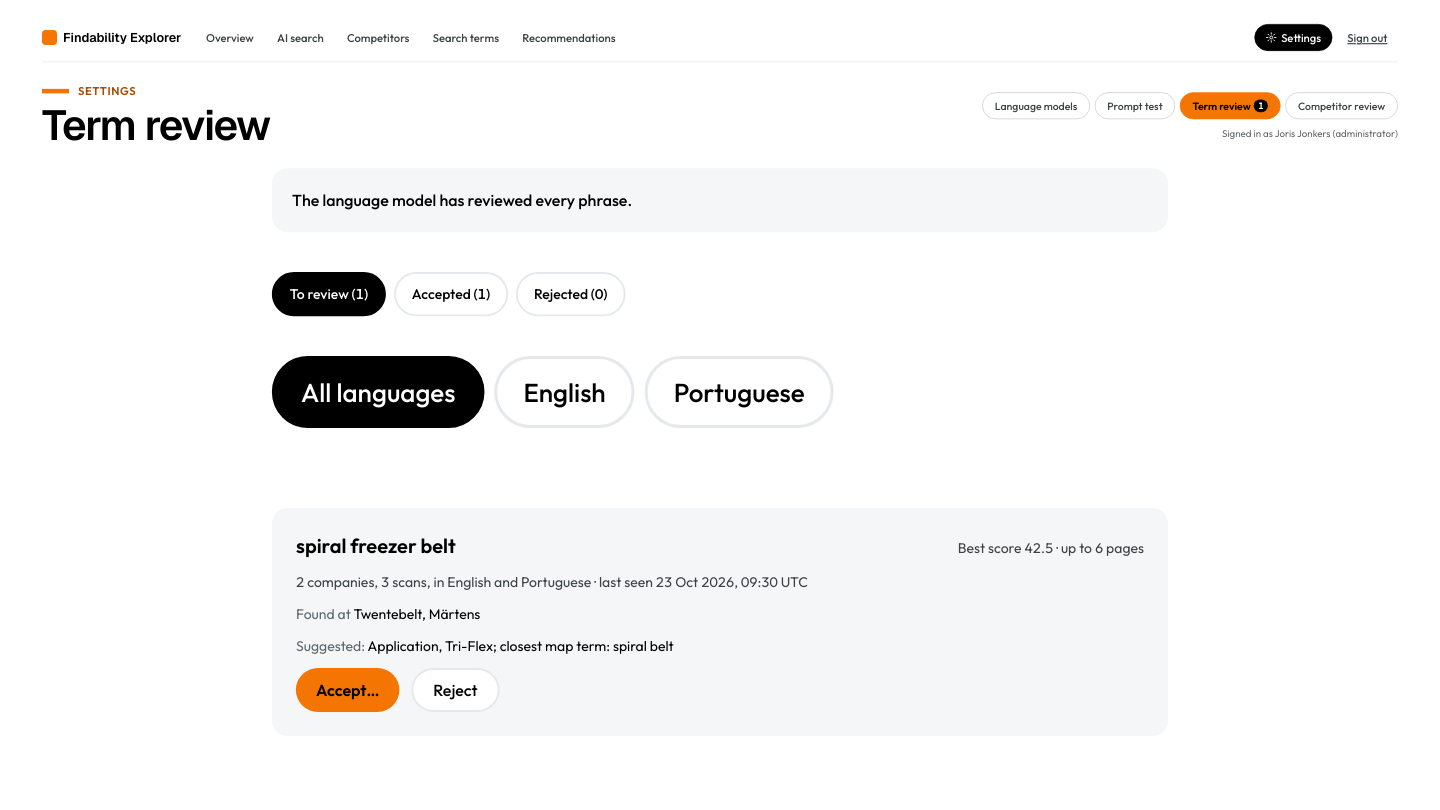
Scenario: the term review › rejects a candidate, and cancels an acceptance
This screenshot has width=1440, height=810.
(page scrolled)
Click the button "Accept…". click: click(348, 690)
box: 296,668 -> 399,712
(page scrolled)
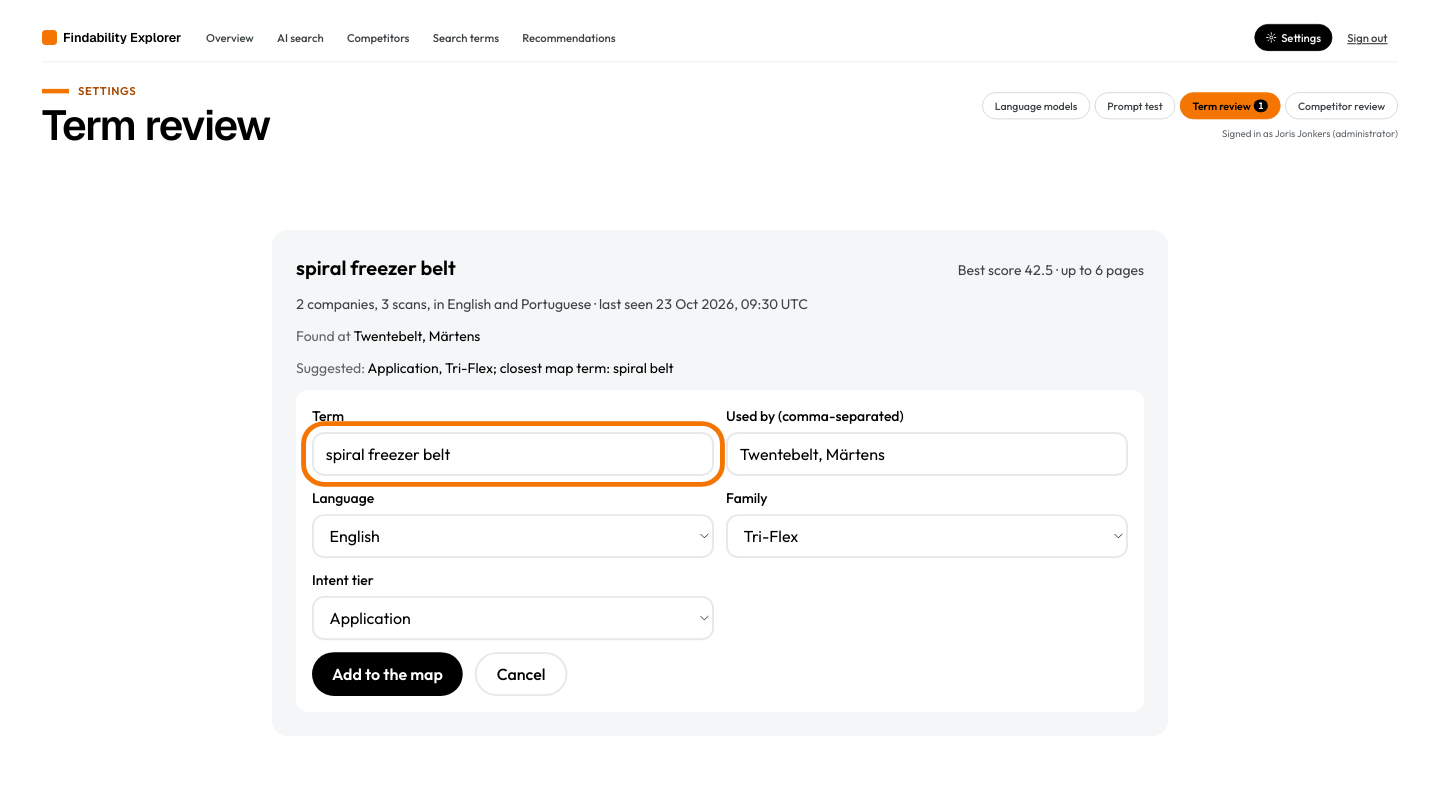
Click the button "Cancel". click: click(521, 674)
box: 475,652 -> 567,696
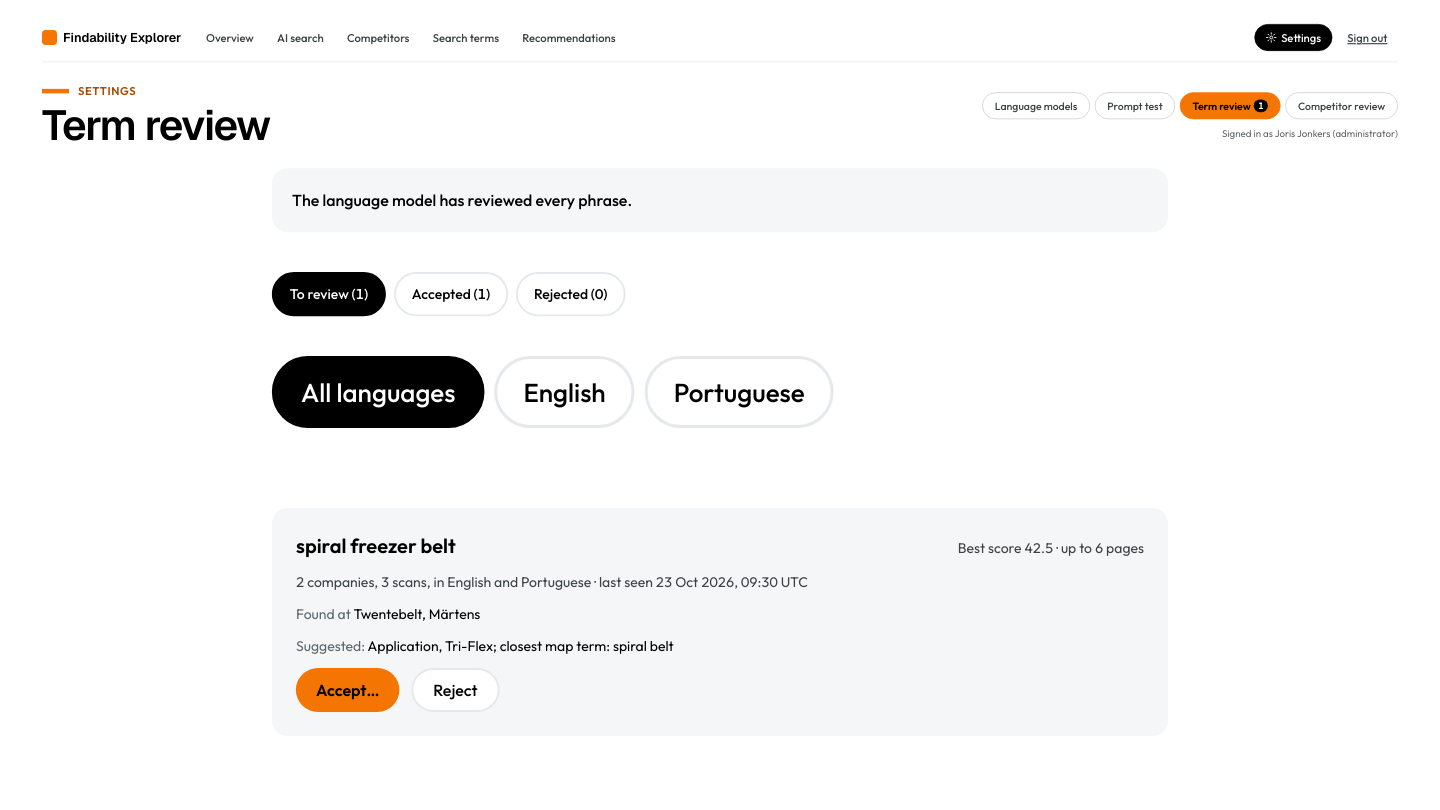
Click the button "Reject". click: click(455, 690)
box: 411,668 -> 499,712
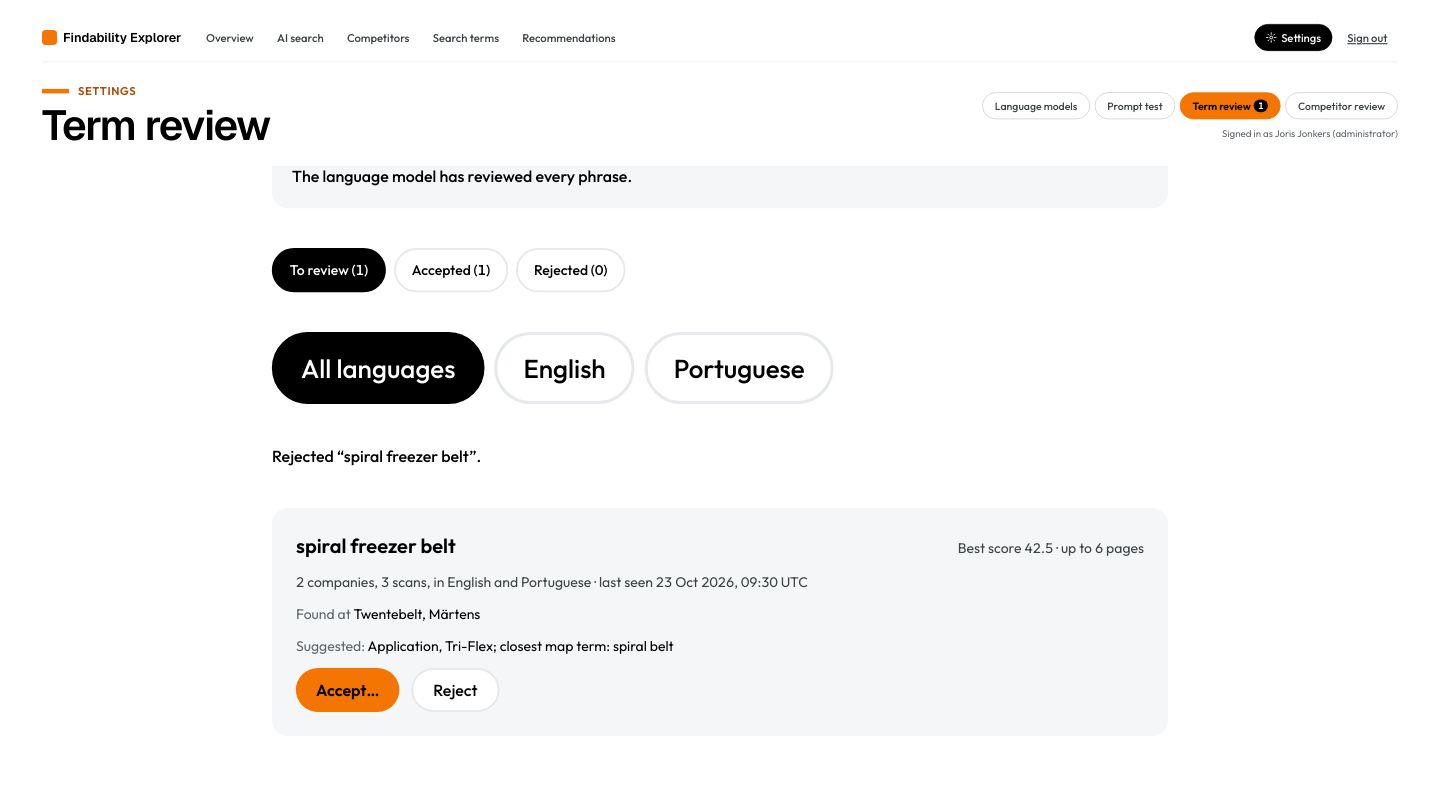
Check: the text "Rejected “spiral freezer belt”." is shown, box 272,446 -> 481,466
